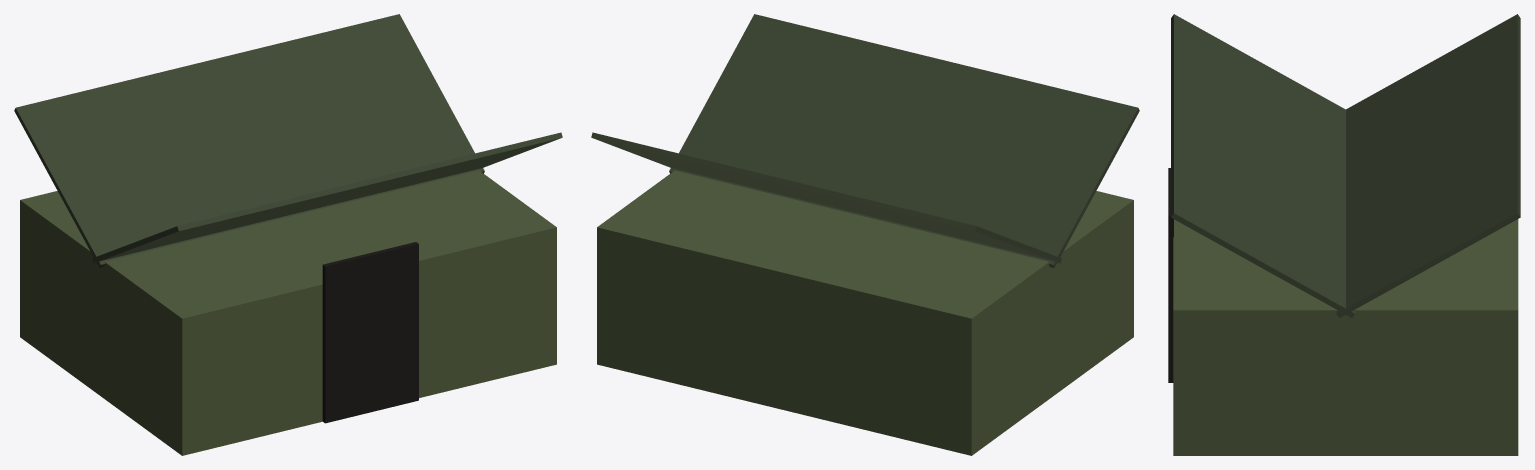
Rendered from army_tent.glb.
3 renders of one model, left to right at view 1: azimuth 30°, elevation 25°; view 2: azimuth 150°, elevation 25°; view 3: azimuth 270°, elevation 25°, orthographic. The views are drawn at different scales.
Visible parts, largest first — view 1: ArmyTent; view 2: ArmyTent; view 3: ArmyTent.
Boxes of the visible parts, x1=… form: ArmyTent: x1=14, y1=14, x2=562, y2=455; ArmyTent: x1=591, y1=14, x2=1139, y2=455; ArmyTent: x1=1168, y1=14, x2=1520, y2=455.
Bounding box in the file's own units: 4.1 × 2.35 × 3.07.
